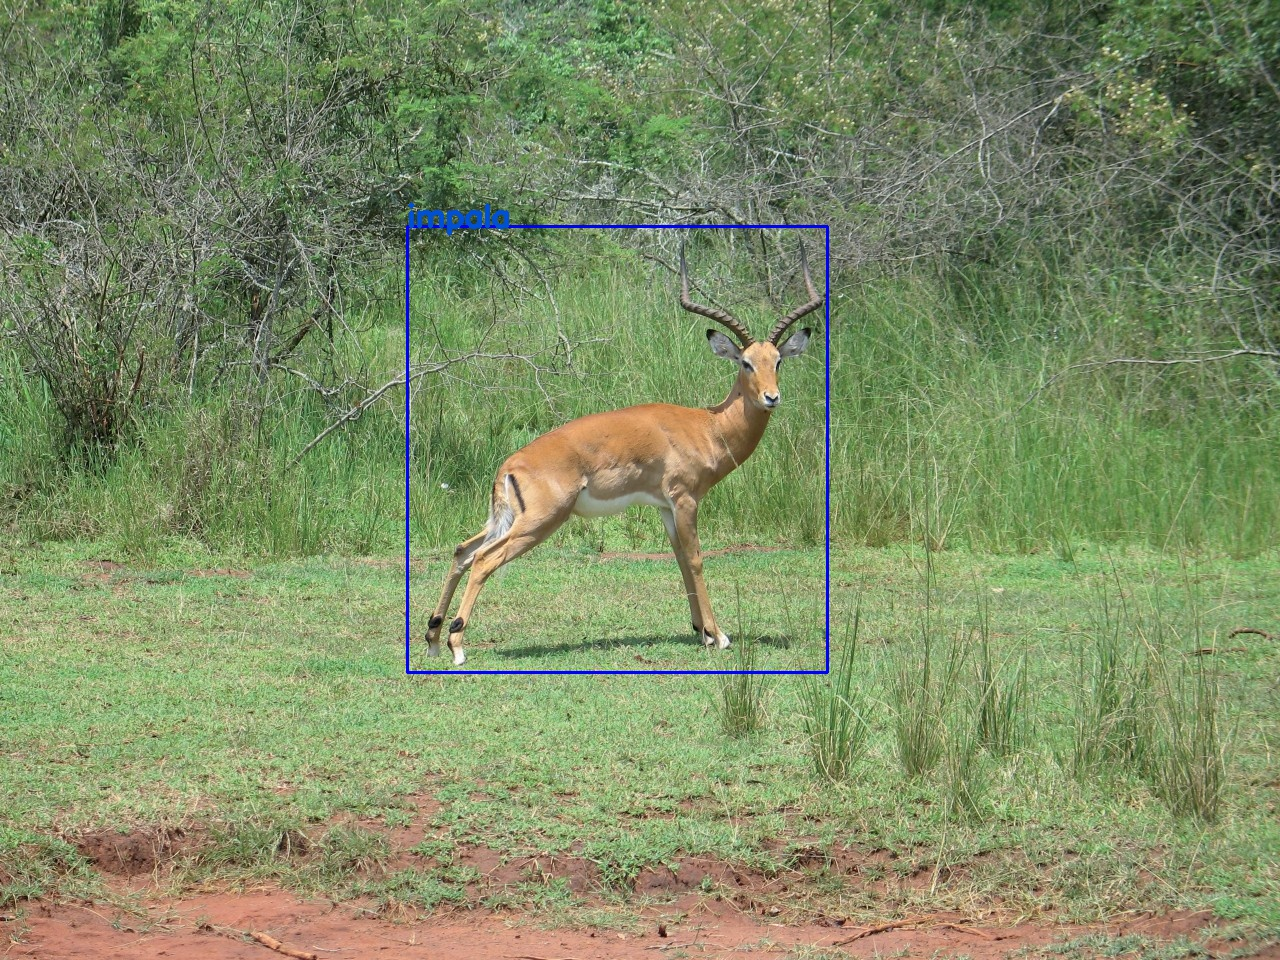impala: (406, 225, 826, 671)
